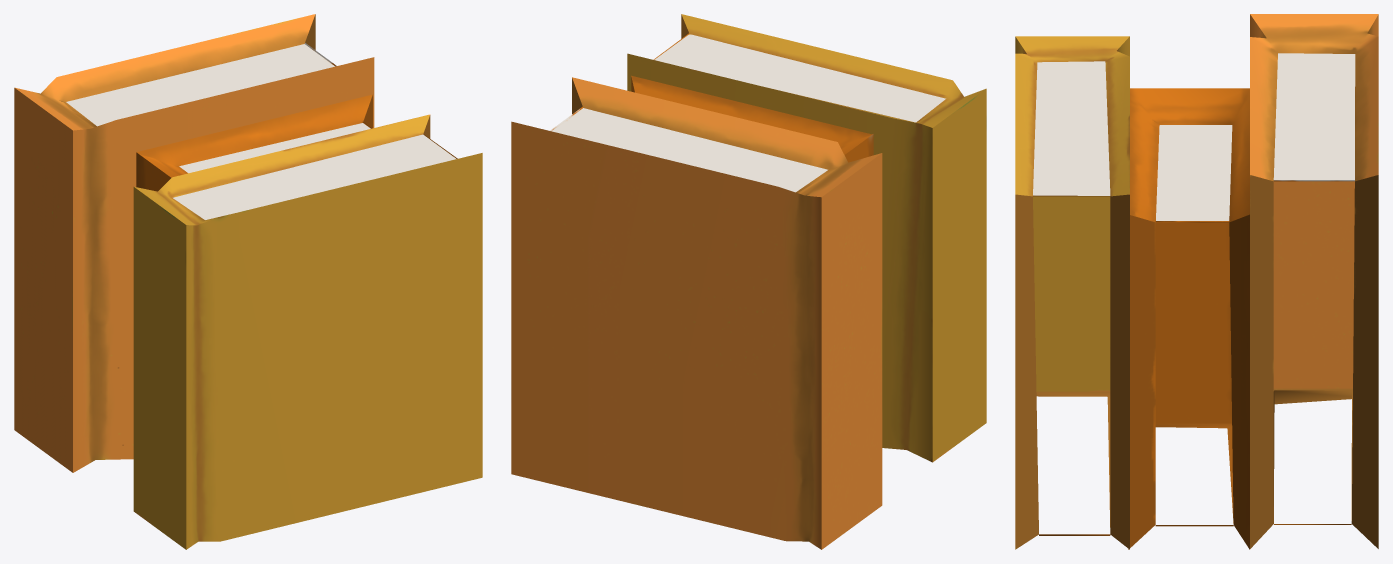
File: BOOKS_ORANGE.fbx
3 renders of one model, left to right at view 1: azimuth 30°, elevation 25°; view 2: azimuth 150°, elevation 25°; view 3: azimuth 270°, elevation 25°, orthographic. The views are drawn at different scales.
Parts seen in each view (by area): view 1: books_finished; view 2: books_finished; view 3: books_finished.
Part boxes in pixels (x1,y1,x2,y2): books_finished: (14,14,482,549); books_finished: (511,14,986,549); books_finished: (1015,14,1378,549).
Bounding box in the file's own units: 61.96 × 67.29 × 58.95.
